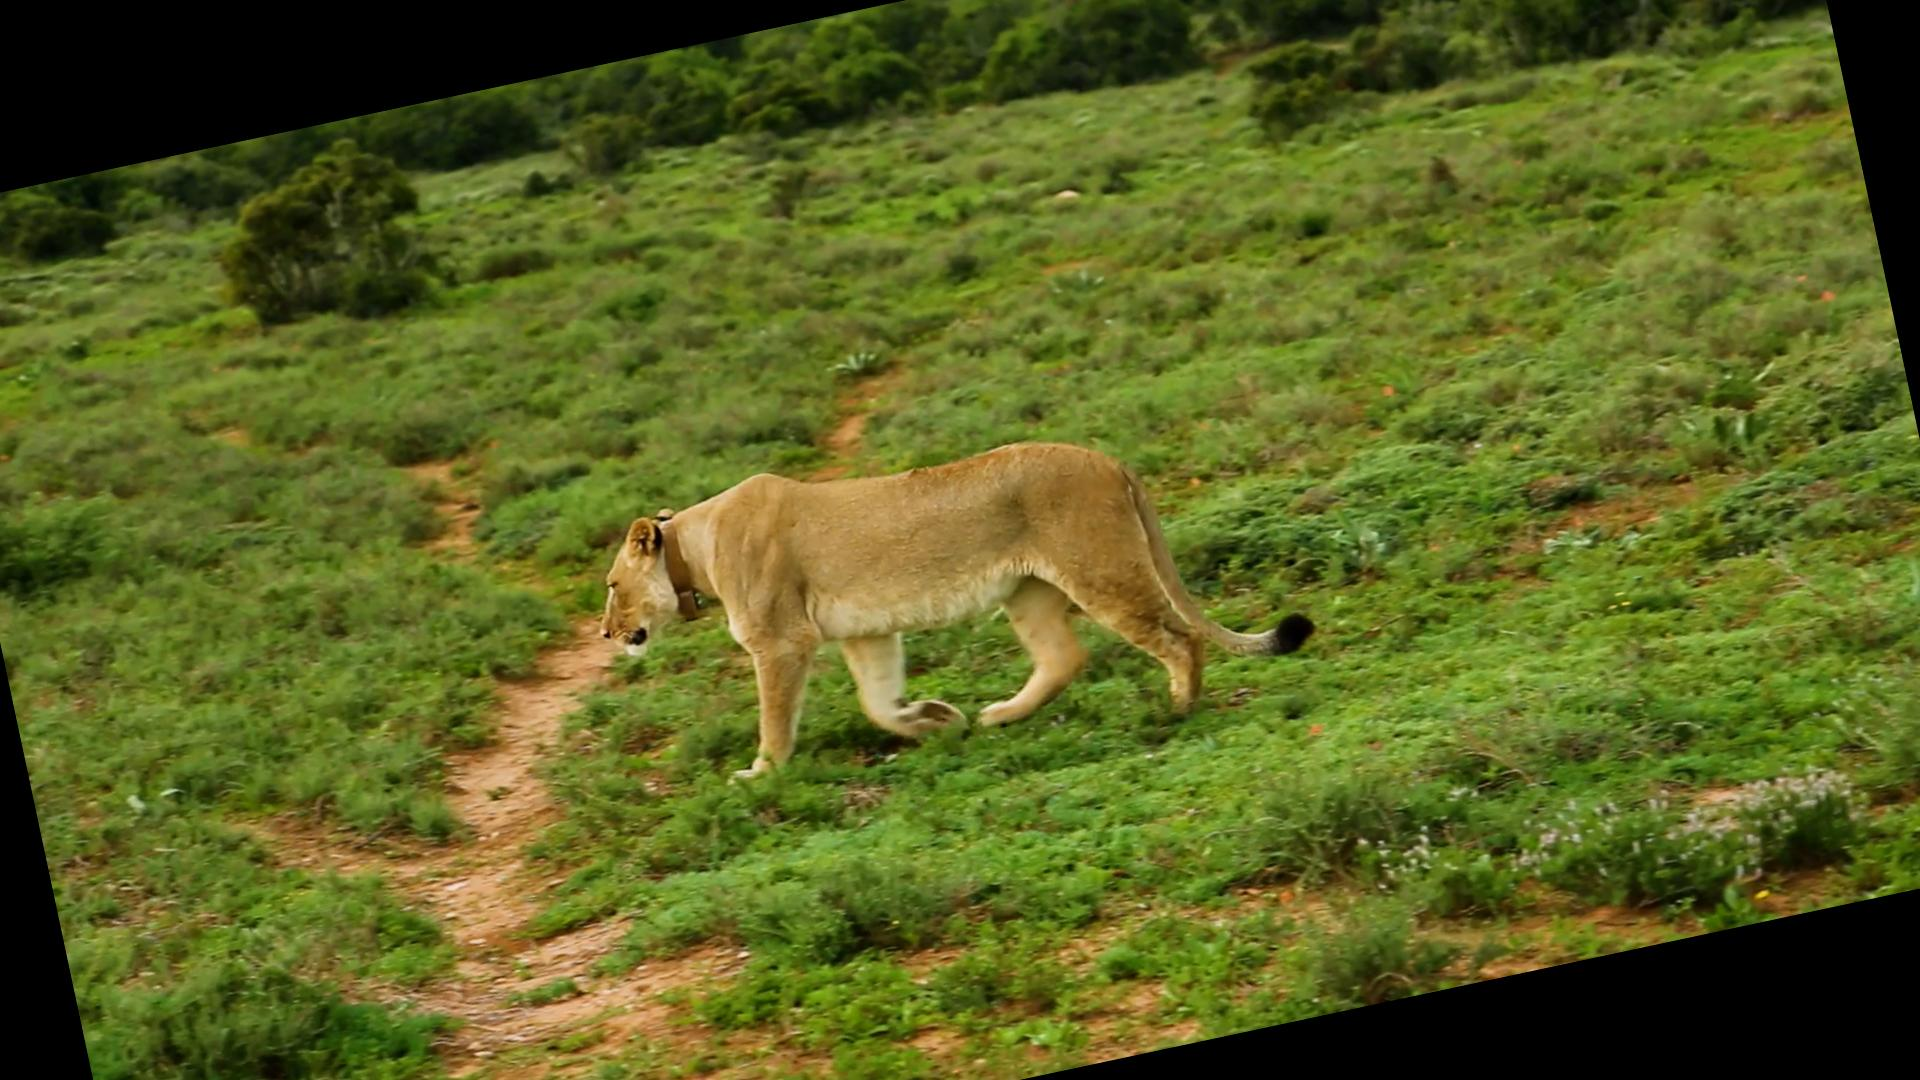lions: (534, 320, 1383, 884)
